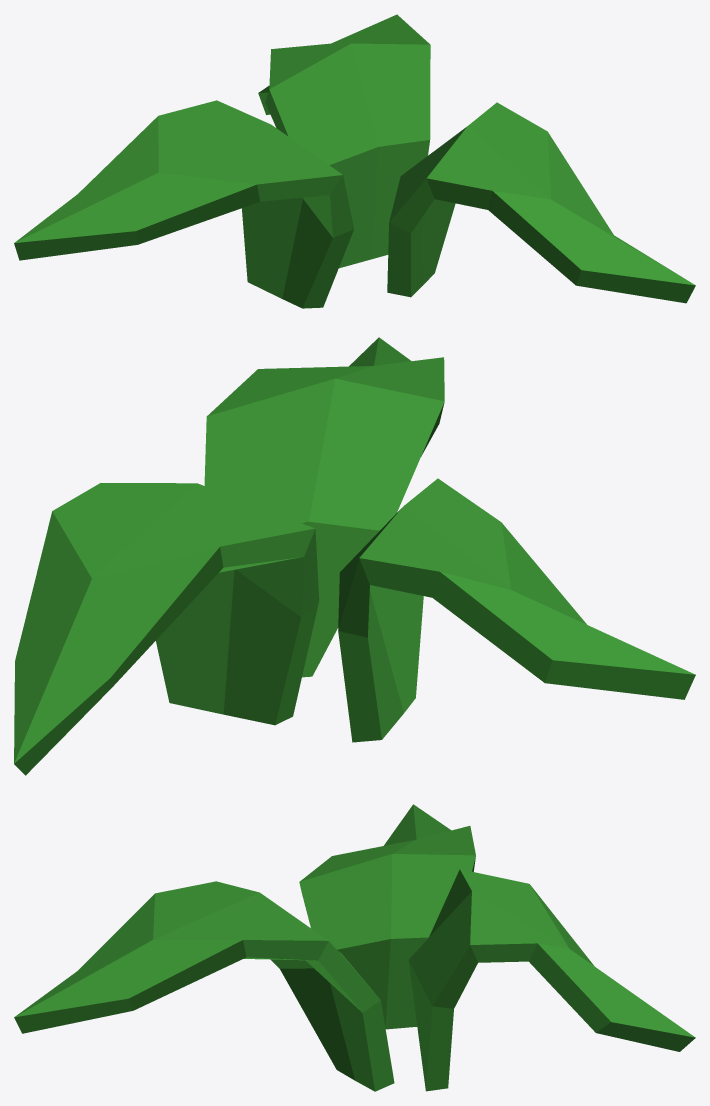
The model's file is grass_2.glb.
3 views of the same model, one above another, from view 1: azimuth 30°, elevation 25°; view 2: azimuth 150°, elevation 25°; view 3: azimuth 270°, elevation 25° (orthographic). The views are drawn at different scales.
Visible parts, largest first — view 1: Plane.027; view 2: Plane.027; view 3: Plane.027.
Part boxes in pixels (<box>): Plane.027: <box>14,14,695,308</box>; Plane.027: <box>14,337,695,775</box>; Plane.027: <box>14,804,695,1091</box>.
Bounding box in the file's own units: 0.2209 × 0.0899 × 0.2985.
